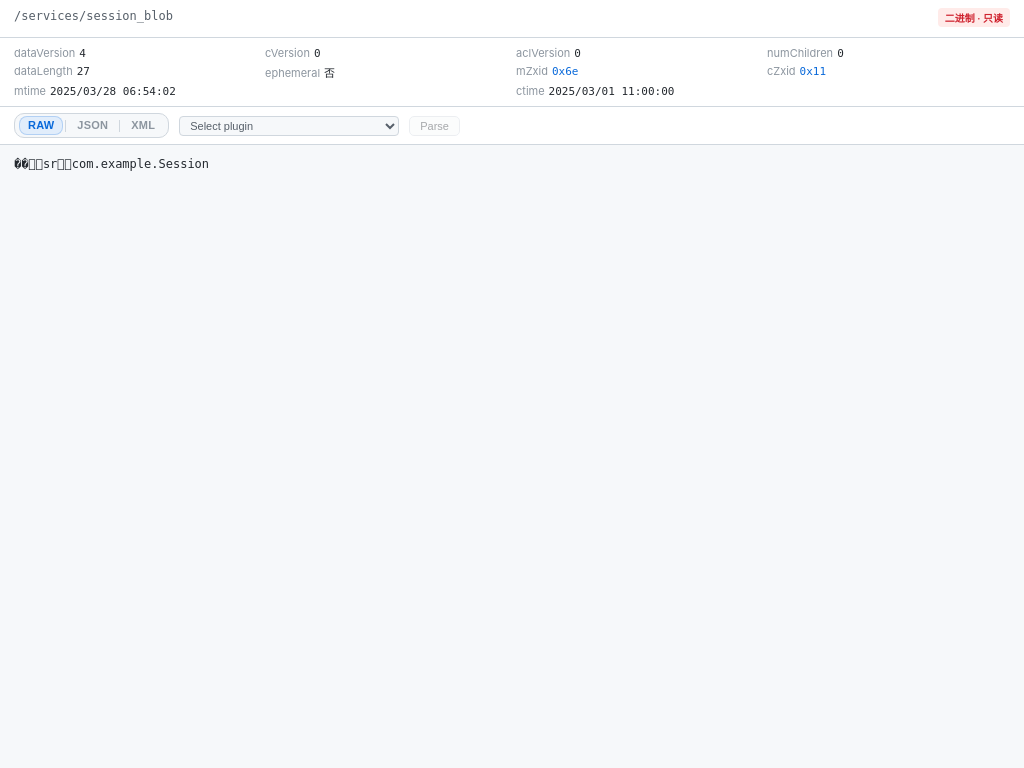
shows full plugin errors in a details dialog
Select "Dubbo Provider Decoder" in the dropdown named "Plugin" at (289, 126), box [179,116,399,136]
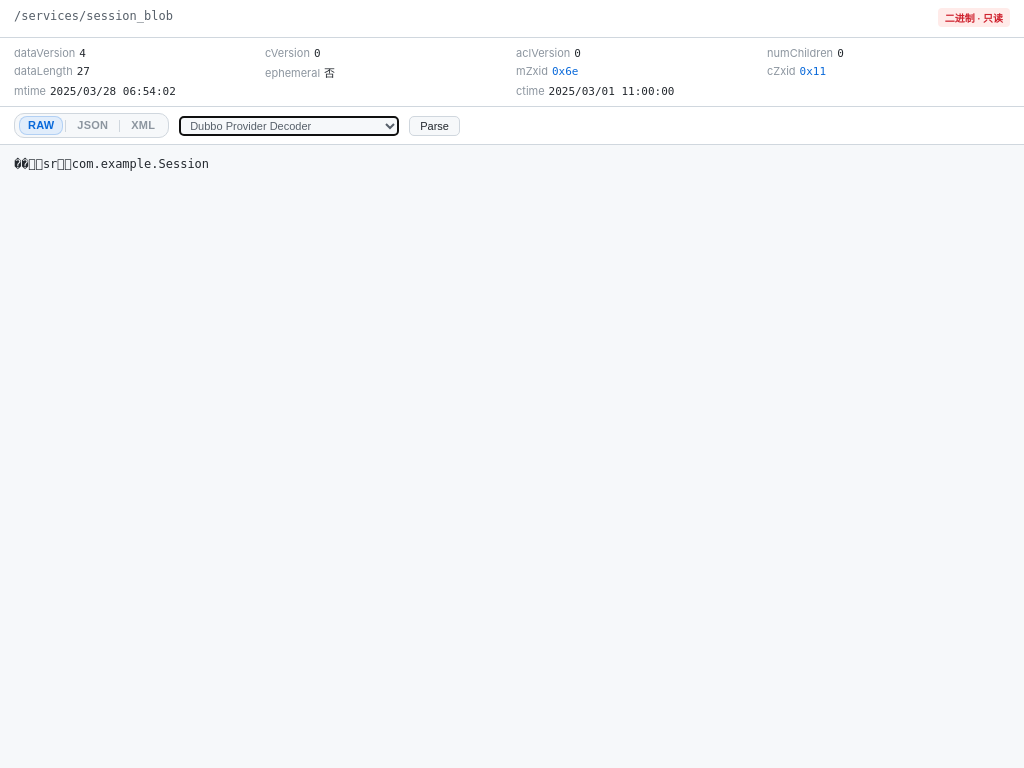
Click the button "Parse" at (435, 126), box [409,116,460,136]
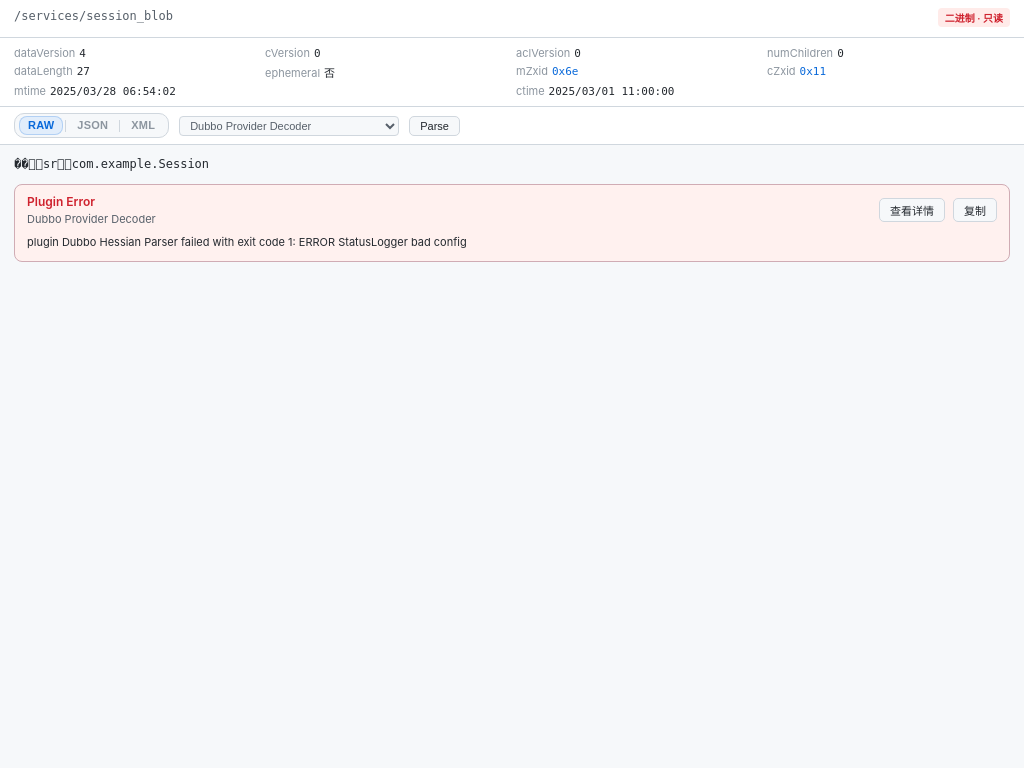
Expected: the text "Plugin Error" is shown, [27,194,95,209]
Expected: the button "查看详情" is shown
Click the button "查看详情" at (912, 210), box [879,198,945,222]
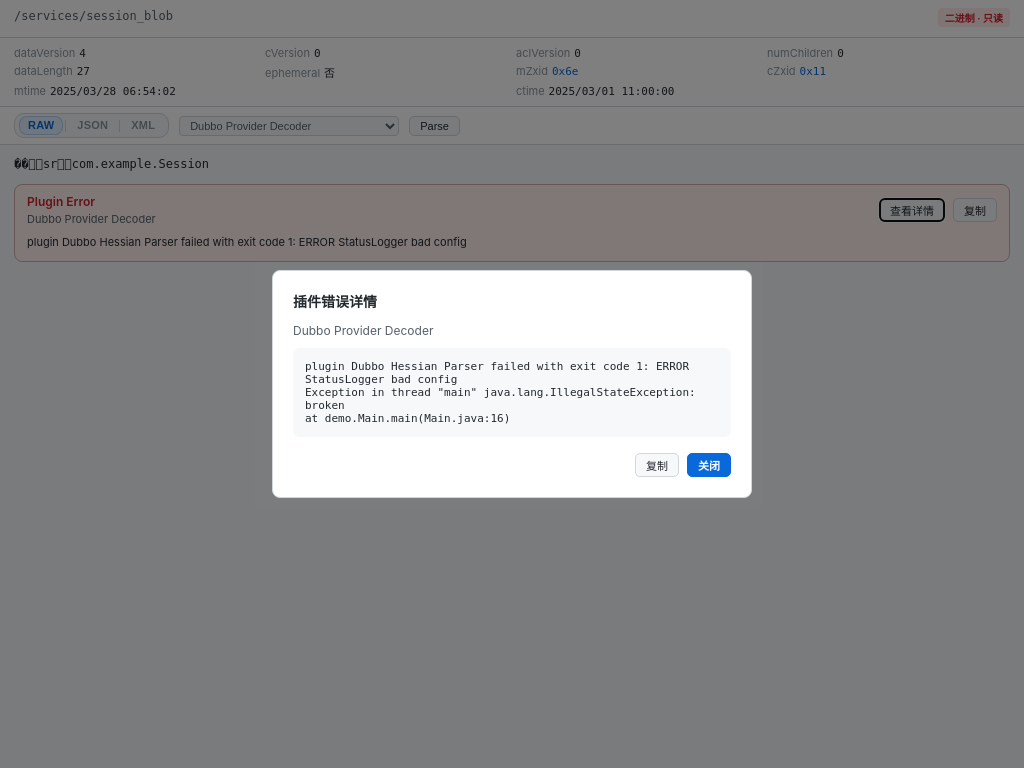
Expected: the dialog is shown, [272,270,752,498]
Expected: the text "Main.java:16" is shown, [305,360,702,425]
